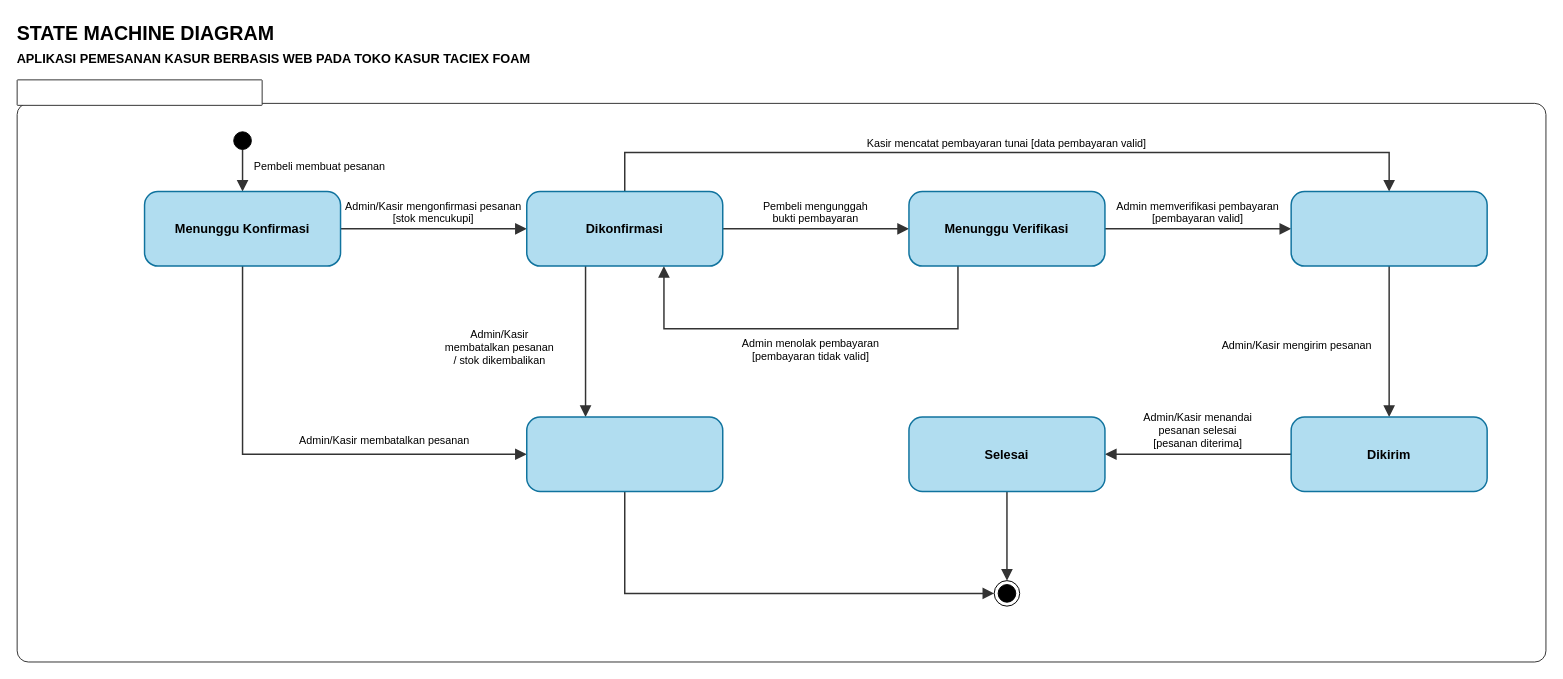
This 1563x679 diagram has some shape labels left out. The centre of each missing label's shape, as x and y in pixels:
"Dibatalkan" belongs at pixel 624 454.
"Lunas" belongs at pixel 1388 228.
"Objek : Pesanan (Order)" belongs at pixel 139 92.
